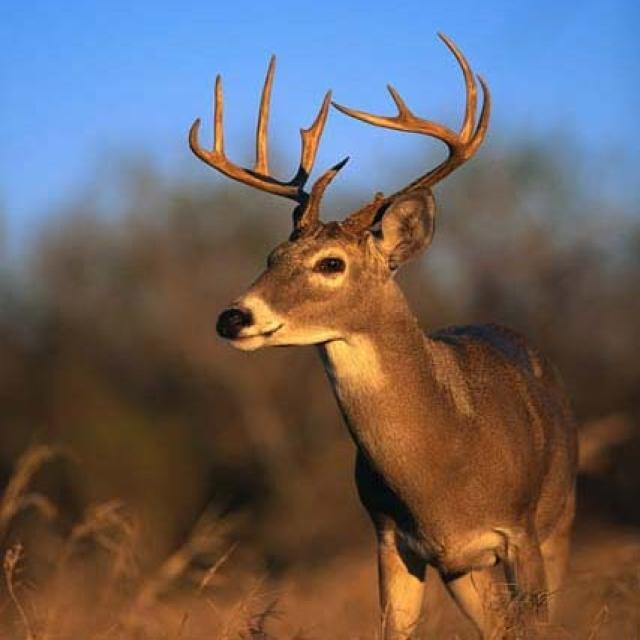R-F: (331, 100, 467, 238)
R-G1: (305, 153, 352, 216)
R-G2: (290, 88, 333, 188), (466, 72, 491, 159)
R-G3: (435, 31, 477, 144), (254, 53, 277, 175)
R-G4: (211, 72, 225, 160), (386, 83, 416, 118)
